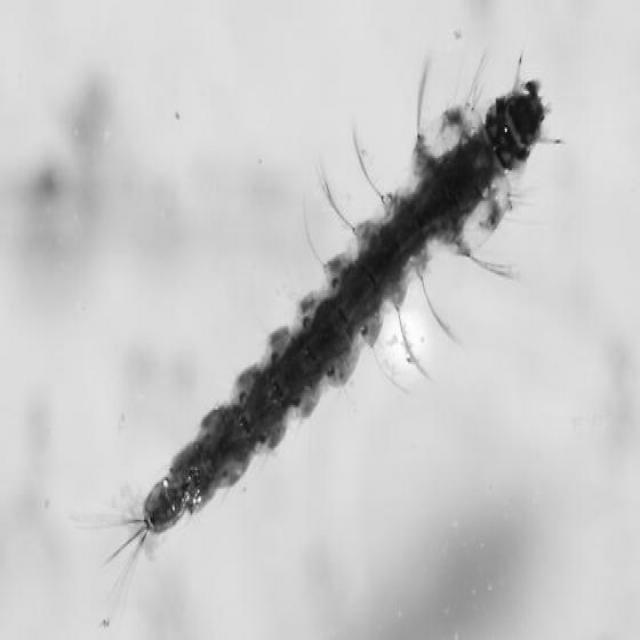larvas: (140, 82, 543, 530)
